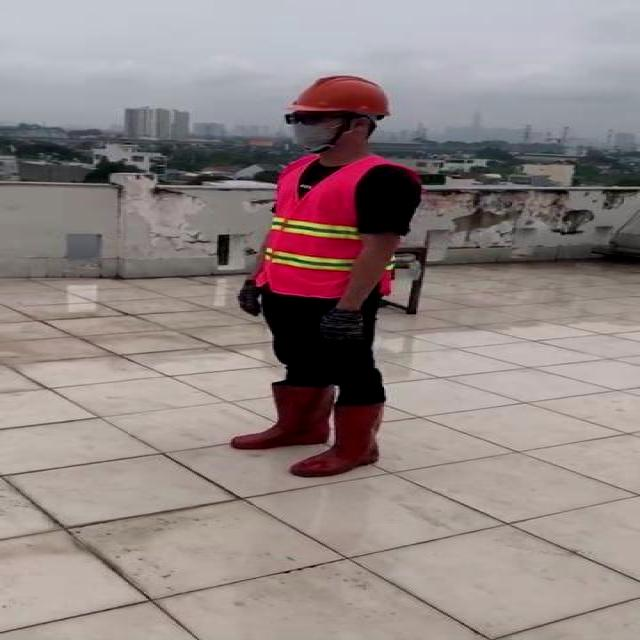boots: (288, 397, 398, 480), (228, 378, 334, 454)
face_mask: (284, 108, 345, 147)
glasses: (278, 109, 334, 128)
hand_glove: (314, 309, 370, 343), (226, 277, 263, 318)
head_helmet: (289, 72, 397, 115)
person: (215, 64, 429, 480)
vest: (256, 160, 416, 298)
